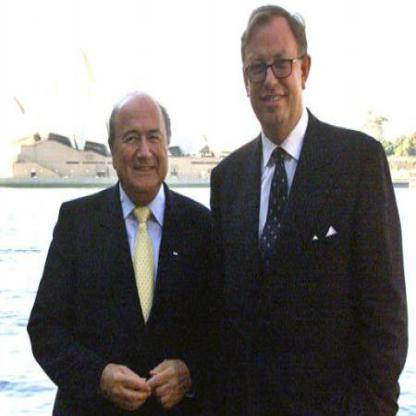face: (244, 11, 304, 130), (116, 95, 170, 196)
